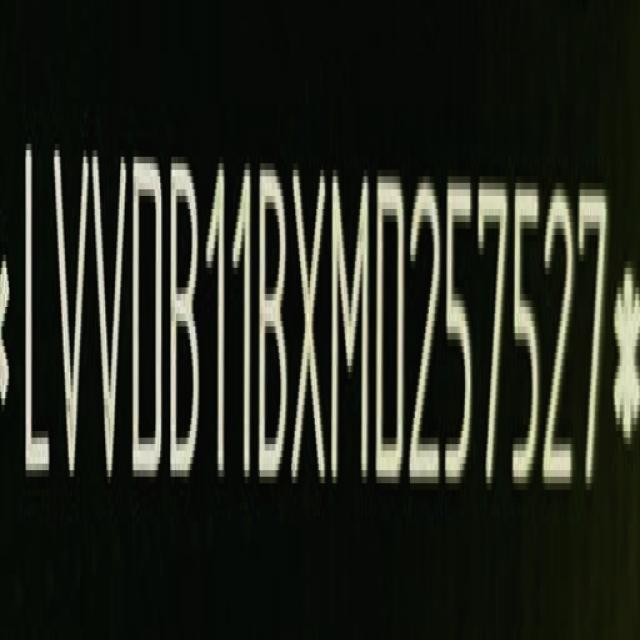1: (231, 140, 257, 498), (205, 138, 231, 493)
2: (406, 130, 442, 496), (542, 133, 577, 489)
5: (444, 142, 476, 506), (512, 128, 540, 482)
7: (476, 145, 509, 489), (577, 172, 609, 493)
B: (165, 138, 202, 488), (256, 138, 287, 481)
D: (130, 136, 164, 486), (374, 133, 405, 489)
L: (23, 131, 54, 491)
M: (330, 145, 372, 501)
V: (52, 133, 90, 493), (90, 136, 128, 488)
X: (291, 135, 328, 491)
